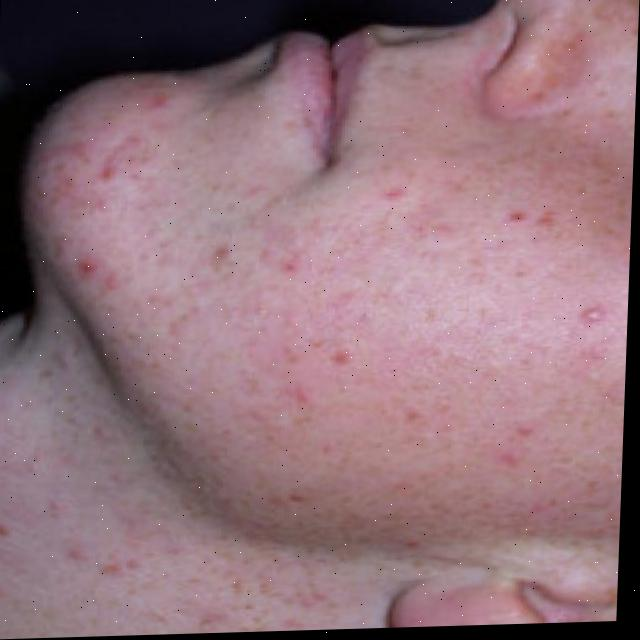Acne: (60, 144, 634, 448)
